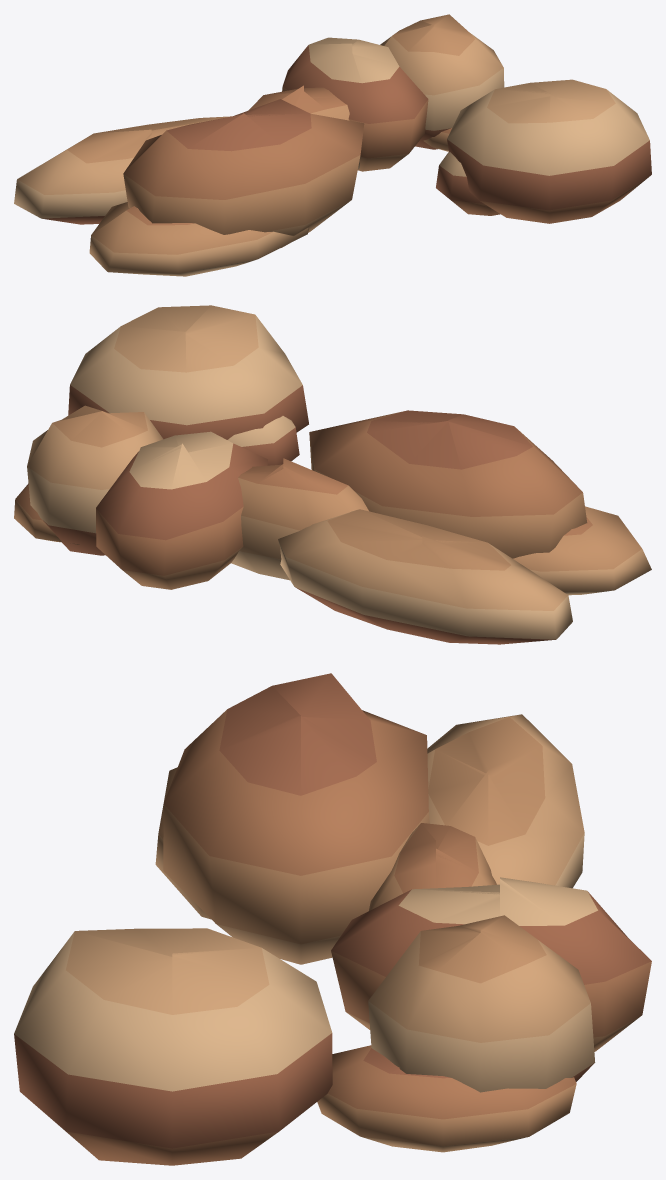
File: SM_CanyonTalus_01.glb
The picture shows the model from 3 angles, top to bottom: view 1: azimuth 30°, elevation 25°; view 2: azimuth 150°, elevation 25°; view 3: azimuth 270°, elevation 25°; orthographic projection. The views are drawn at different scales.
Parts seen in each view (by area): view 1: SM_CanyonTalus_01; view 2: SM_CanyonTalus_01; view 3: SM_CanyonTalus_01.
Boxes of the visible parts, left/top/right/bottom form: SM_CanyonTalus_01: left=14, top=14, right=651, bottom=276; SM_CanyonTalus_01: left=14, top=305, right=651, bottom=644; SM_CanyonTalus_01: left=14, top=673, right=651, bottom=1165.
Bounding box in the file's own units: 10.03 × 2.43 × 6.52.
